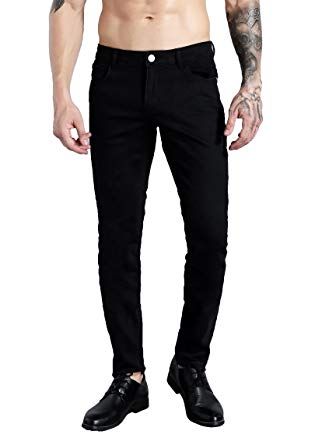jeans: (90, 43, 225, 376)
